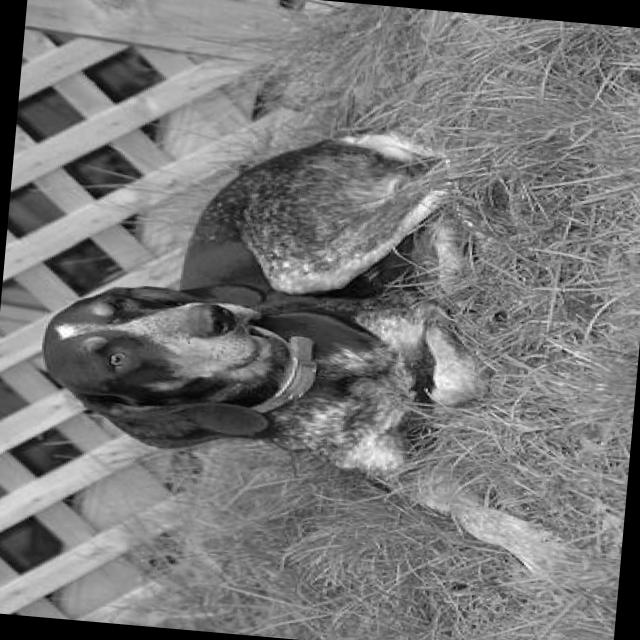laying down: (11, 90, 612, 584)
